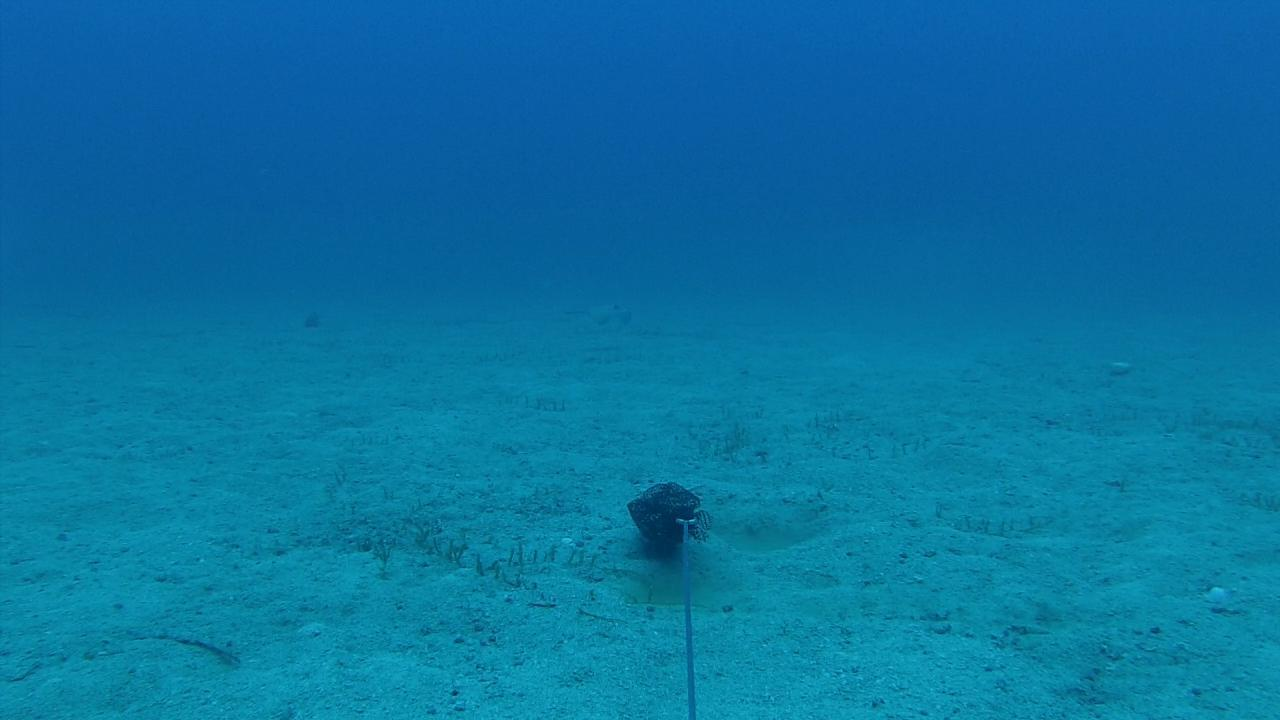dasyatis: (564, 304, 632, 326)
